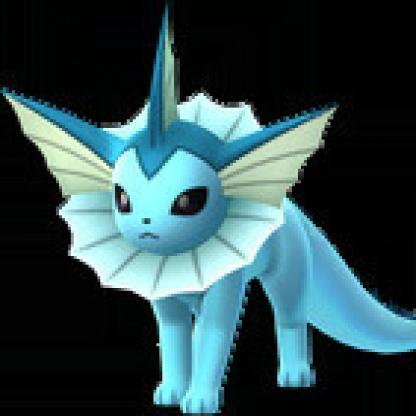Vaporeon: (1, 7, 414, 414)
